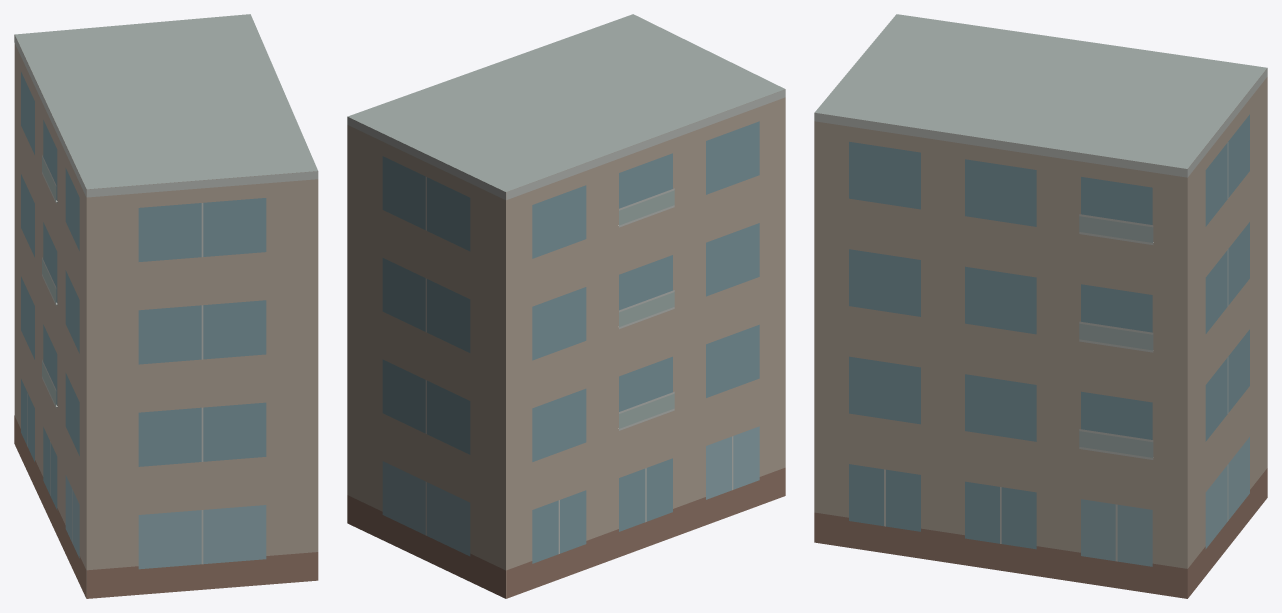
Rendered from survey-upis-32724439.glb.
3 views of the same model, side by side, from view 1: azimuth 30°, elevation 25°; view 2: azimuth 150°, elevation 25°; view 3: azimuth 270°, elevation 25° (orthographic). The views are drawn at different scales.
Parts seen in each view (by area): view 1: survey-upis-32724439.tmp; view 2: survey-upis-32724439.tmp; view 3: survey-upis-32724439.tmp.
Part boxes in pixels (left/top/right/bottom): survey-upis-32724439.tmp: left=14, top=14, right=318, bottom=598; survey-upis-32724439.tmp: left=347, top=14, right=785, bottom=598; survey-upis-32724439.tmp: left=814, top=14, right=1267, bottom=598.
Size of the model in its own units: 9.45 by 12.2 by 11.67.
